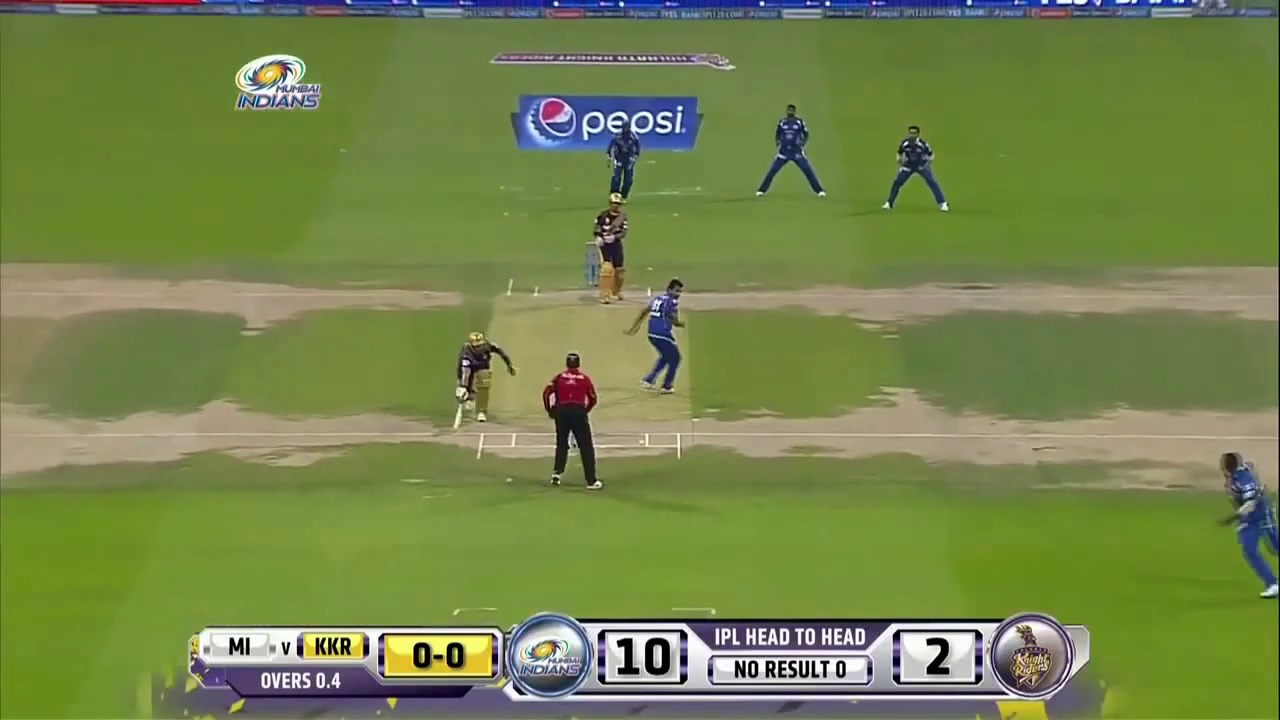bat: (452, 404, 465, 432)
